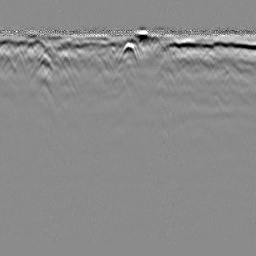cavity: (117, 41, 139, 67)
